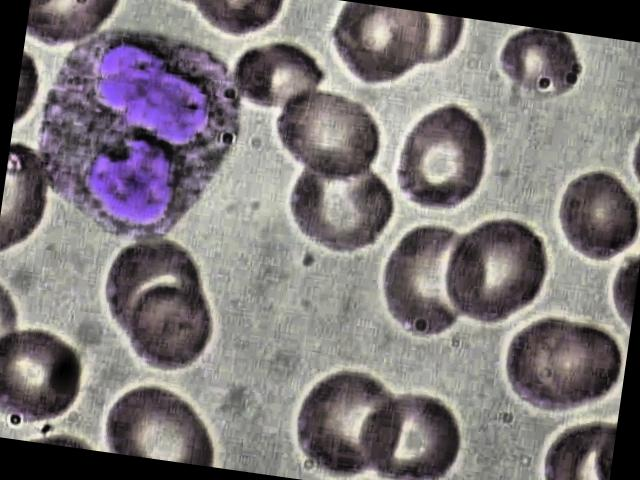RBC: (365, 217, 488, 345), (438, 206, 561, 333), (285, 360, 412, 480), (278, 150, 404, 265), (267, 80, 393, 195), (389, 96, 502, 220), (350, 376, 470, 480), (549, 159, 640, 275), (0, 319, 90, 435), (121, 282, 222, 382), (530, 312, 630, 412), (225, 36, 334, 118), (495, 24, 588, 116)
WBC: (13, 6, 285, 266)
